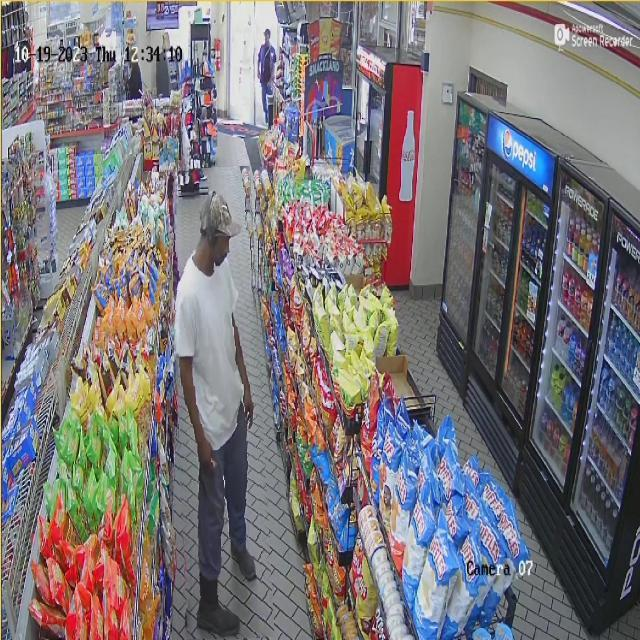Normal: (169, 167, 267, 640), (251, 19, 279, 140)
